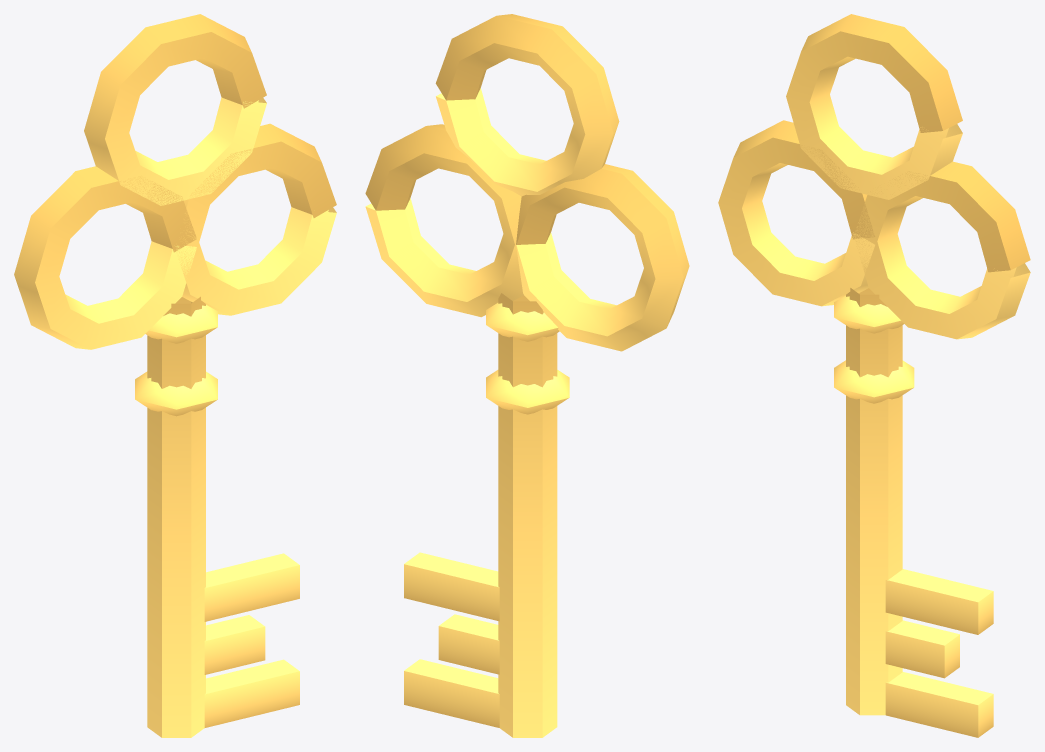
The model's file is skeleton_key.glb.
3 renders of one model, left to right at view 1: azimuth 30°, elevation 25°; view 2: azimuth 150°, elevation 25°; view 3: azimuth 330°, elevation 25°, orthographic. The views are drawn at different scales.
Visible parts, largest first — view 1: skeleton_key_glow; view 2: skeleton_key_glow; view 3: skeleton_key_glow.
Part boxes in pixels (bbox=[...]): skeleton_key_glow: bbox=[14, 14, 336, 737]; skeleton_key_glow: bbox=[365, 14, 689, 737]; skeleton_key_glow: bbox=[718, 14, 1030, 737].
Size of the model in its own units: 0.1373 by 0.2917 by 0.0312.
